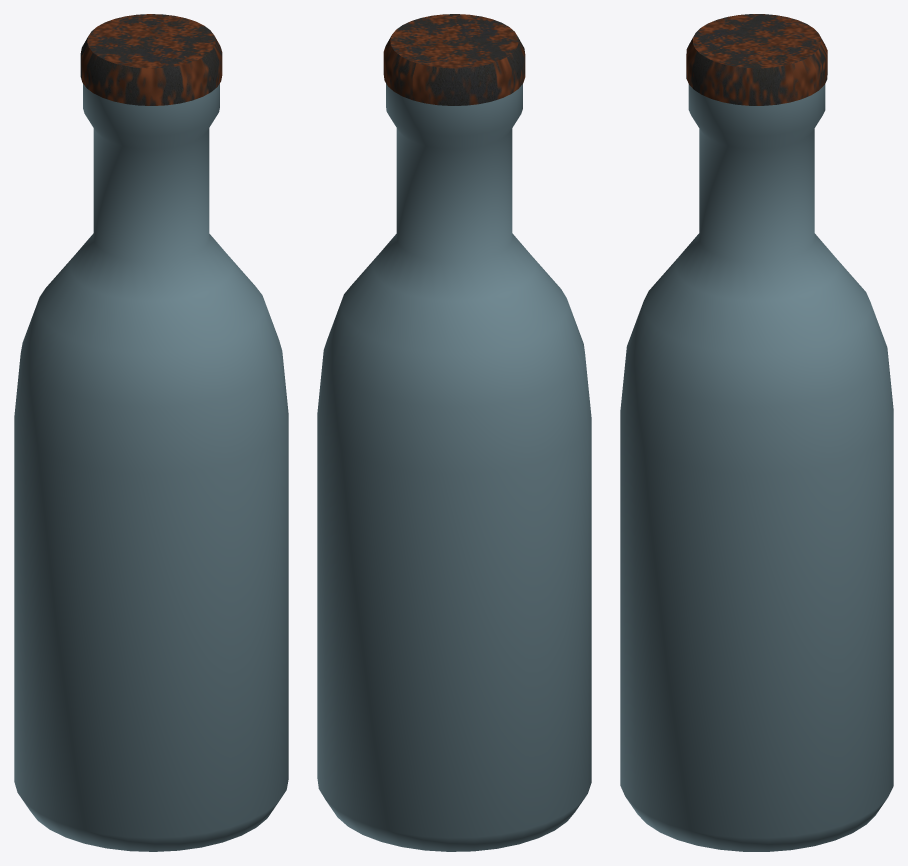
Rendered from SM_Bottle_0f6879ac72.fbx.
3 views of the same model, side by side, from view 1: azimuth 30°, elevation 25°; view 2: azimuth 150°, elevation 25°; view 3: azimuth 270°, elevation 25° (orthographic).
Parts seen in each view (by area): view 1: SM_Bottle_0f6879ac72; view 2: SM_Bottle_0f6879ac72; view 3: SM_Bottle_0f6879ac72.
Part boxes in pixels (box(x1,y1,x2,y2)): SM_Bottle_0f6879ac72: box(14, 14, 288, 851); SM_Bottle_0f6879ac72: box(317, 14, 591, 851); SM_Bottle_0f6879ac72: box(620, 14, 893, 851).
Size of what is drawn, in the model's own units: 12.75 by 12.75 by 39.4.
2 materials, 1 textured.
